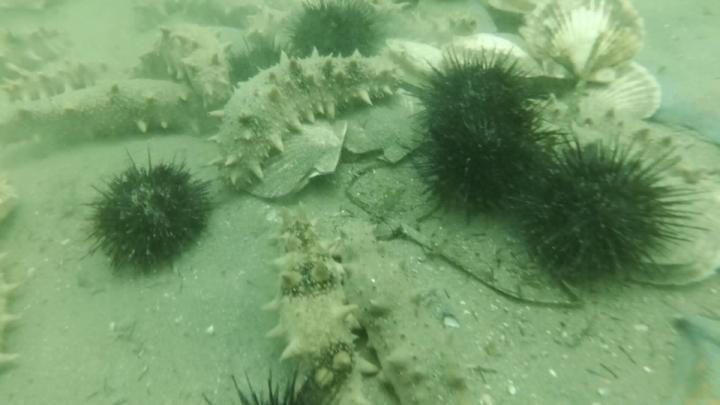echinus: (517, 137, 677, 279), (84, 153, 220, 277), (416, 104, 550, 215), (418, 53, 535, 147), (198, 361, 360, 405), (288, 1, 380, 56), (223, 41, 284, 83)
holothurian: (326, 219, 492, 405), (210, 47, 409, 194), (259, 204, 379, 405), (525, 96, 704, 199), (15, 81, 200, 149), (140, 25, 236, 110), (1, 54, 115, 104), (371, 9, 483, 44), (246, 6, 299, 54)
scallop: (518, 1, 649, 86), (241, 115, 344, 203), (346, 91, 429, 169), (577, 58, 664, 124), (380, 35, 446, 92)
